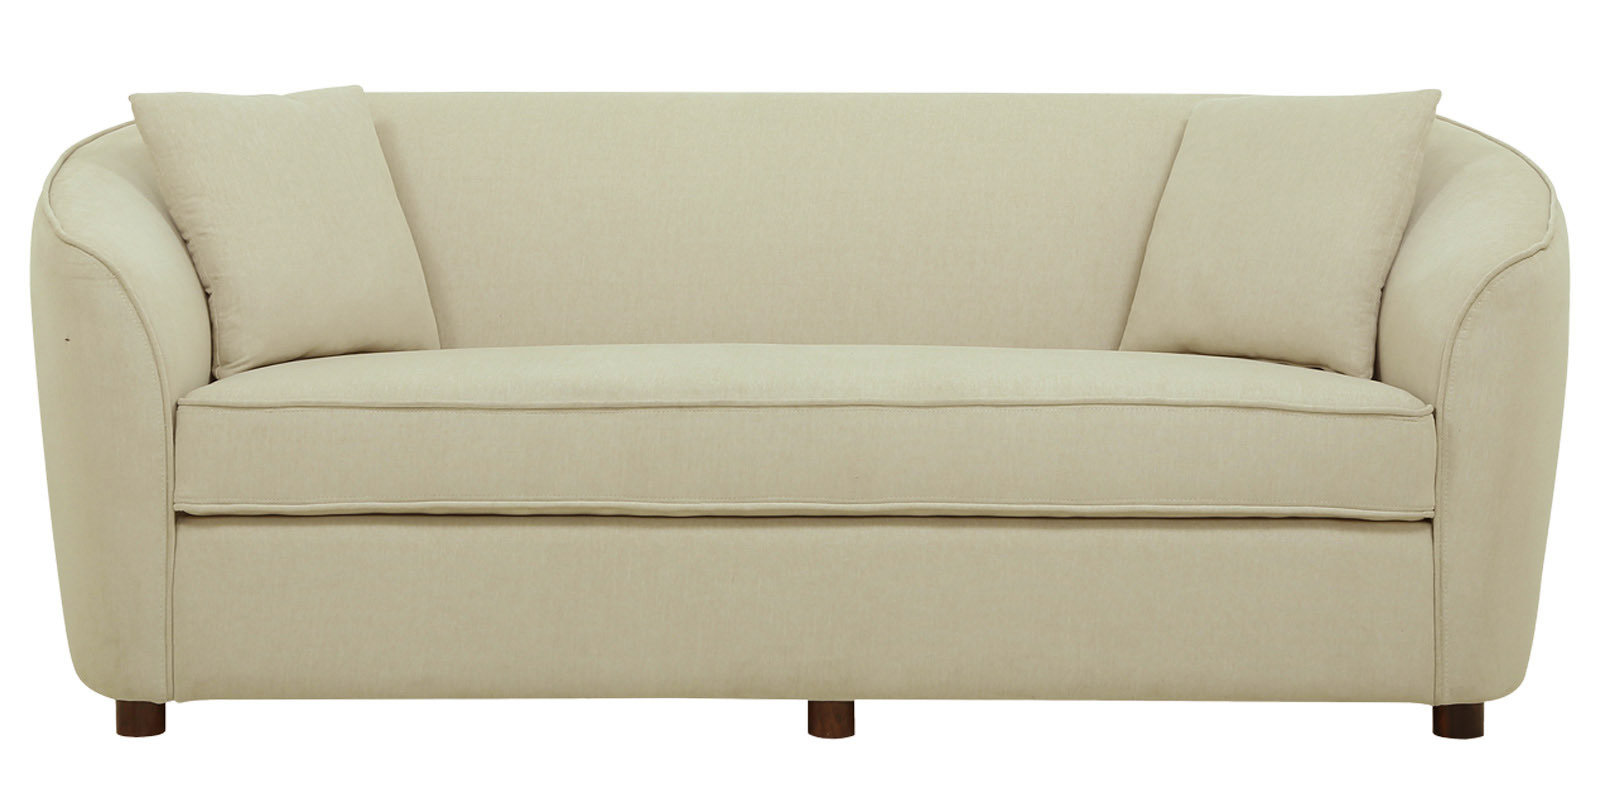Mamore Three Seater Sofa in Beige Color by CasaCraft: (33, 83, 1572, 739)
